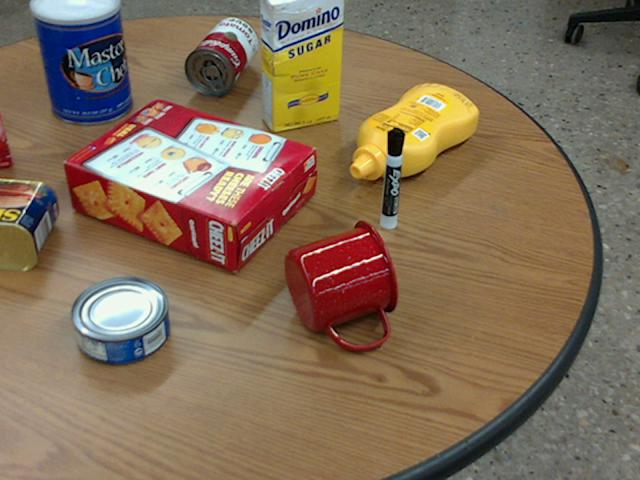cracker_box: (65, 97, 314, 270)
gelatin_box: (0, 108, 11, 166)
large_marker: (380, 127, 403, 228)
master_chef_can: (32, 0, 132, 123)
mug: (284, 220, 399, 348)
mustard_bottle: (350, 84, 476, 179)
potted_meat_can: (0, 178, 56, 268)
sugar_box: (260, 0, 343, 131)
tomato_soup_can: (184, 17, 256, 95)
tuna_fish_can: (69, 275, 167, 363)
